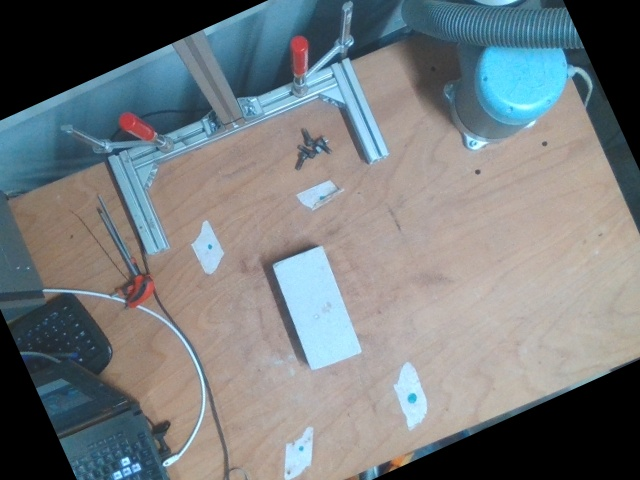brick: (271, 247, 361, 370)
